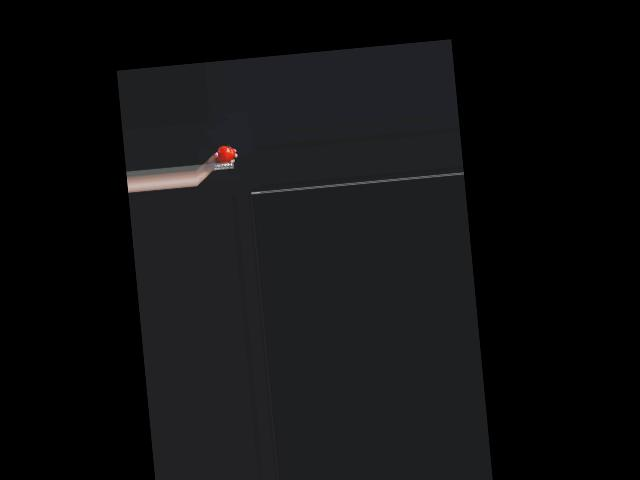tomato: (216, 144, 236, 163)
